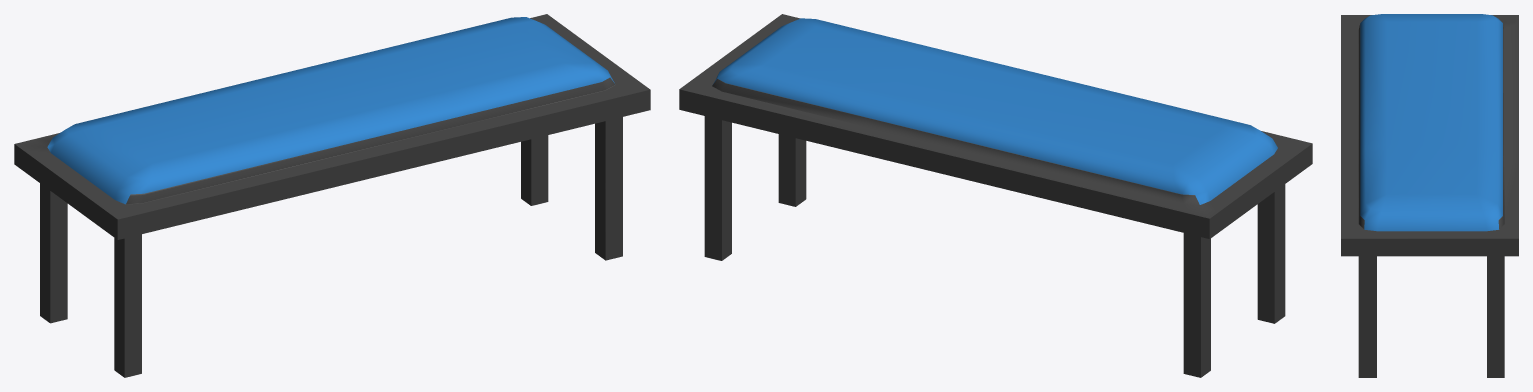
File: X3Boxcheir.fbx
3 views of the same model, side by side, from view 1: azimuth 30°, elevation 25°; view 2: azimuth 150°, elevation 25°; view 3: azimuth 270°, elevation 25° (orthographic). The views are drawn at different scales.
Parts seen in each view (by area): view 1: isu3; view 2: isu3; view 3: isu3.
Part boxes in pixels (x1,y1,x2,y2): isu3: (14,14,650,377); isu3: (679,14,1312,377); isu3: (1341,14,1518,377).
Bounding box in the file's own units: 2.98 × 1.02 × 1.
1 material, 1 textured.
